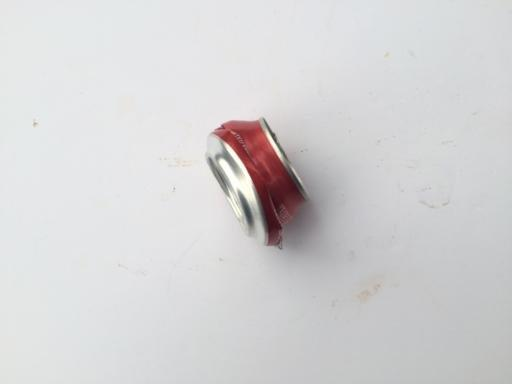kaleng: (204, 117, 311, 249)
